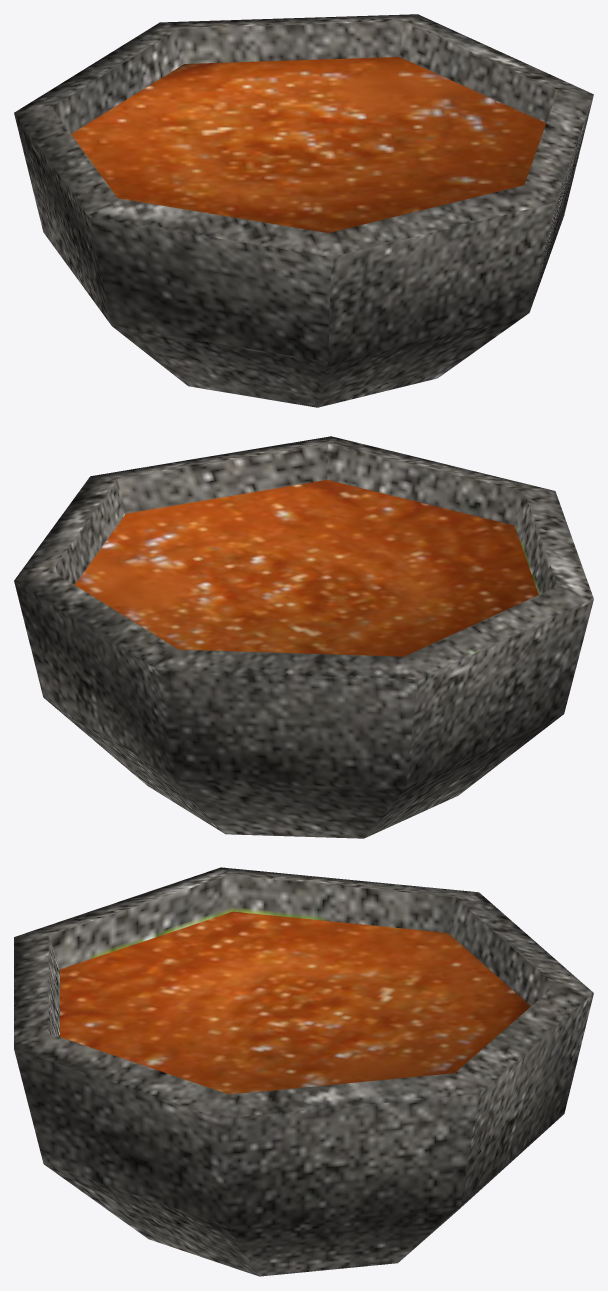
The model's file is SauceRed.glb.
The picture shows the model from 3 angles, top to bottom: view 1: azimuth 30°, elevation 25°; view 2: azimuth 150°, elevation 25°; view 3: azimuth 270°, elevation 25°; orthographic projection. The views are drawn at different scales.
Parts seen in each view (by area): view 1: Sauce_01; view 2: Sauce_01; view 3: Sauce_01.
Boxes of the visible parts, <box> form: Sauce_01: <box>14,14,593,407</box>; Sauce_01: <box>14,436,593,838</box>; Sauce_01: <box>14,867,593,1276</box>.
Size of the model in its own units: 0.267 by 0.1112 by 0.2603.
1 material, 1 textured.
